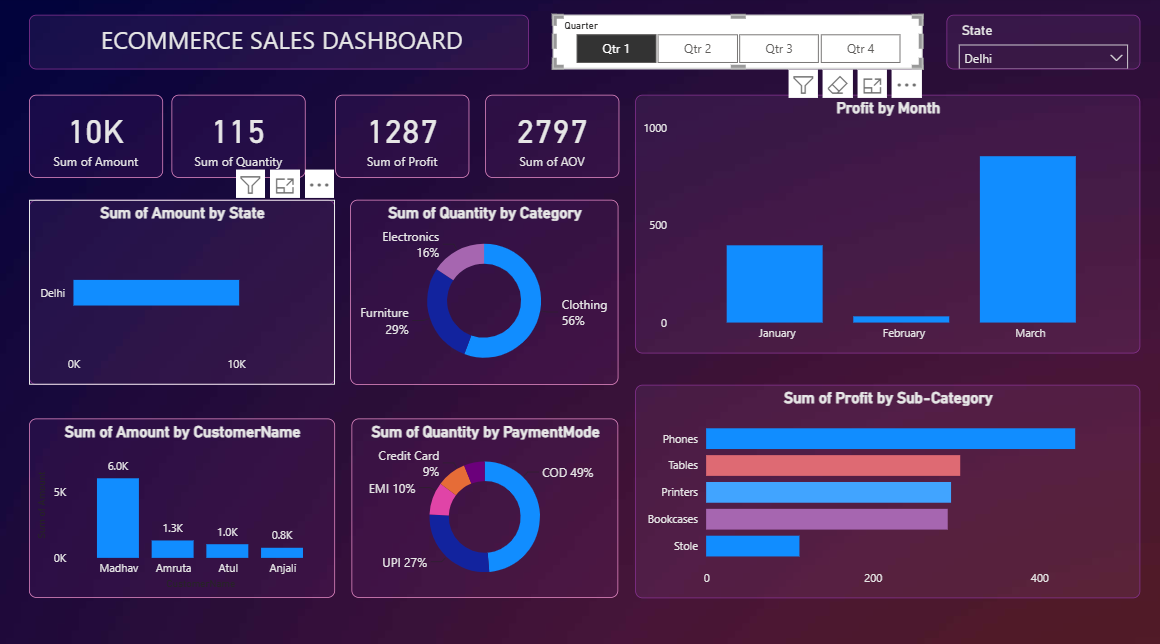

This screenshot's page, from the dashboard's own definition file:
{"tool":"powerbi","page":{"name":"Page 1","canvas":[1280,720],"ordinal":0},"visuals":[{"type":"columnChart","title":"Profit by Month","fields":{"Category":["Orders.Order Date.Variation.Date Hierarchy.Month"],"Y":["Sum(Details.Profit)"]},"box":[698.6,108.6,554.3,284.3],"z":0},{"type":"clusteredBarChart","fields":{"Category":["Details.Sub-Category"],"Y":["Sum(Details.Profit)"]},"box":[698.6,427.1,554.3,234.3],"z":1000},{"type":"donutChart","fields":{"Category":["Details.PaymentMode"],"Y":["Sum(Details.Quantity)"]},"box":[387.1,464.3,292.9,197.1],"z":2000},{"type":"donutChart","fields":{"Category":["Details.Category"],"Y":["Sum(Details.Quantity)"]},"box":[385.7,224.3,294.3,202.9],"z":3000},{"type":"card","fields":{"Values":["Sum(Details.Amount)"]},"box":[32.9,108.6,147.1,91.4],"z":4000},{"type":"card","fields":{"Values":["Sum(Details.Quantity)"]},"box":[190,108.6,147.1,91.4],"z":5000},{"type":"card","fields":{"Values":["Sum(Details.Profit)"]},"box":[368.6,108.6,147.1,91.4],"z":6000},{"type":"card","fields":{"Values":["Sum(Details.AOV)"]},"box":[534.3,108.6,147.1,91.4],"z":7000},{"type":"clusteredBarChart","fields":{"Category":["Orders.State"],"Y":["Sum(Details.Amount)"]},"box":[32.9,224.3,335.7,202.9],"z":8000},{"type":"columnChart","fields":{"Category":["Orders.CustomerName"],"Y":["Sum(Details.Amount)"]},"box":[33,464,336,197],"z":9000},{"type":"textbox","box":[32.9,20,548.6,60],"z":10000},{"type":"slicer","fields":{"Values":["Orders.Order Date.Variation.Date Hierarchy.Quarter"]},"box":[608.6,20,405.7,60],"z":11000},{"type":"slicer","fields":{"Values":["Orders.State"]},"box":[1040,20,212.9,60],"z":12000}]}

Visuals, with their boxes in screenshot pixels (x1, y1, x2, y2), scaled from the page's 1280x720 canvas onto the 1160x644 screenshot:
"Profit by Month" columnChart: crop(633, 97, 1135, 351)
clusteredBarChart - Details.Sub-Category x Sum(Details.Profit): crop(633, 382, 1135, 592)
donutChart - Details.PaymentMode x Sum(Details.Quantity): crop(351, 415, 616, 592)
donutChart - Details.Category x Sum(Details.Quantity): crop(350, 201, 616, 382)
card - Sum(Details.Amount): crop(30, 97, 163, 179)
card - Sum(Details.Quantity): crop(172, 97, 305, 179)
card - Sum(Details.Profit): crop(334, 97, 467, 179)
card - Sum(Details.AOV): crop(484, 97, 618, 179)
clusteredBarChart - Orders.State x Sum(Details.Amount): crop(30, 201, 334, 382)
columnChart - Orders.CustomerName x Sum(Details.Amount): crop(30, 415, 334, 591)
textbox: crop(30, 18, 527, 72)
slicer - Orders.Order Date.Variation.Date Hierarchy.Quarter: crop(552, 18, 919, 72)
slicer - Orders.State: crop(942, 18, 1135, 72)
